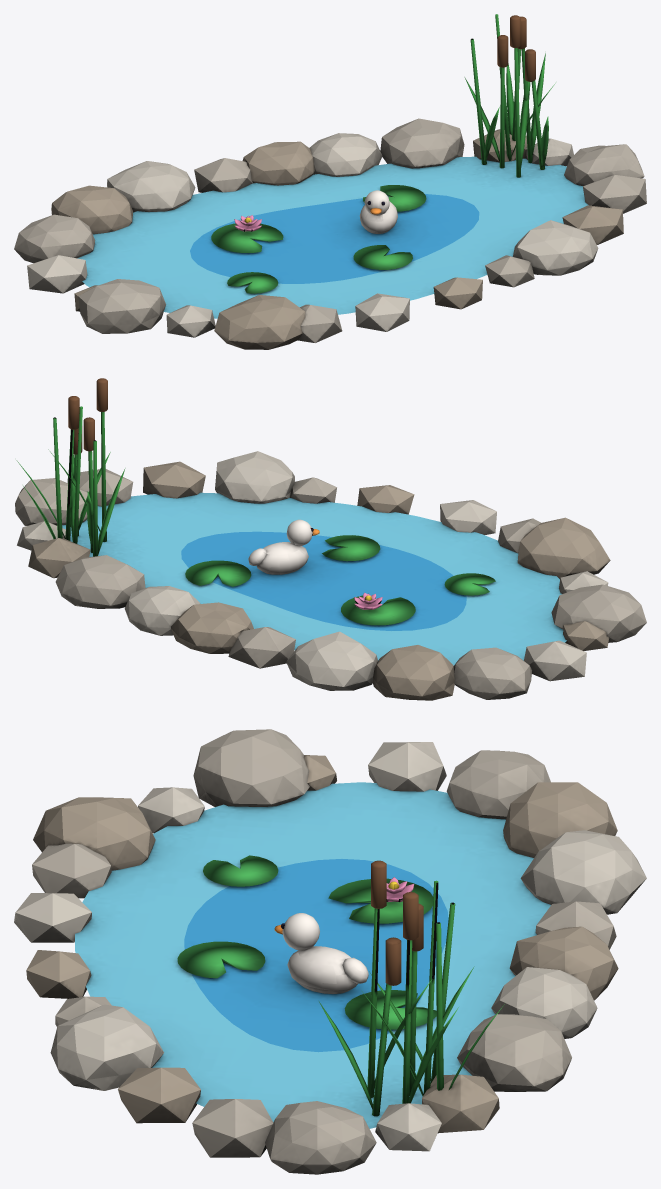
Rendered from pond.glb.
3 renders of one model, top to bottom at view 1: azimuth 30°, elevation 25°; view 2: azimuth 150°, elevation 25°; view 3: azimuth 270°, elevation 25°, orthographic. The views are drawn at different scales.
Parts seen in each view (by area): view 1: pond; view 2: pond; view 3: pond.
Boxes of the visible parts, x1,y1,x2,y2 form: pond: (14,14,646,349); pond: (15,378,646,700); pond: (14,729,646,1174).
Size of the model in its own units: 3.12 by 0.8674 by 2.01.
13 materials, 13 textured.
